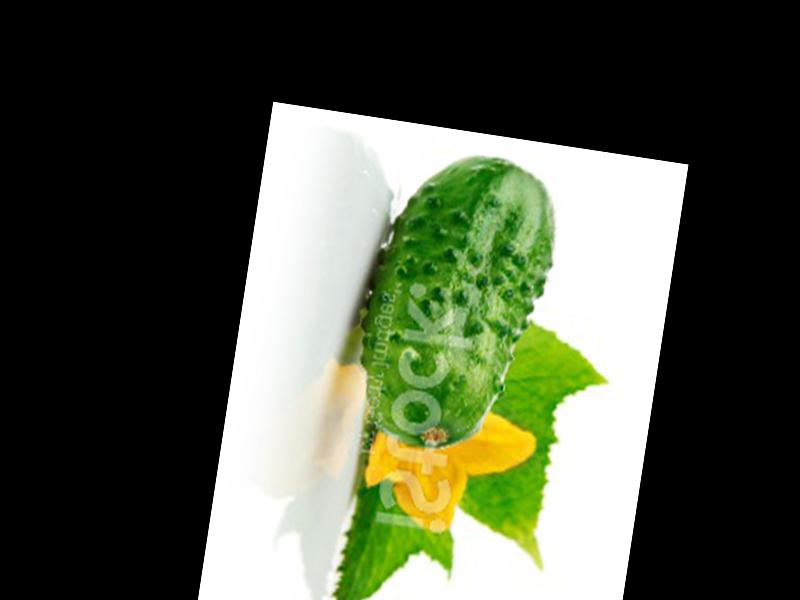Cucumber: (348, 141, 565, 458)
